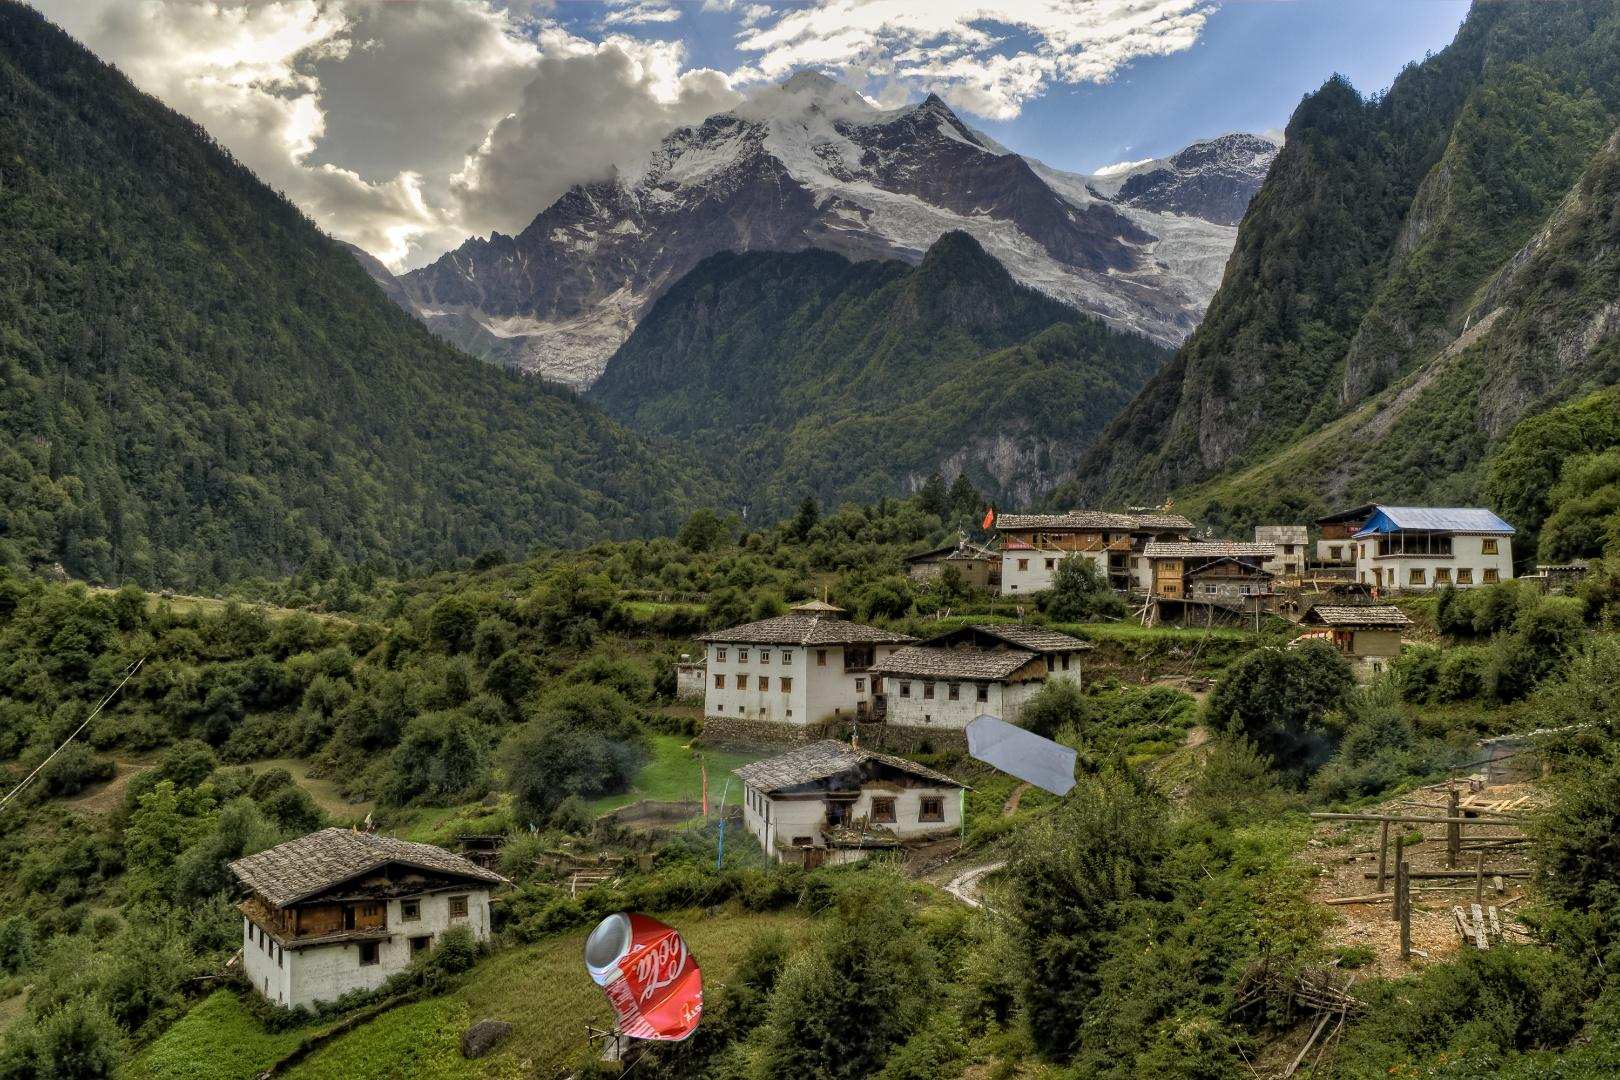metal-cans: (579, 905, 709, 1047)
plastic-bag: (962, 712, 1082, 799)
